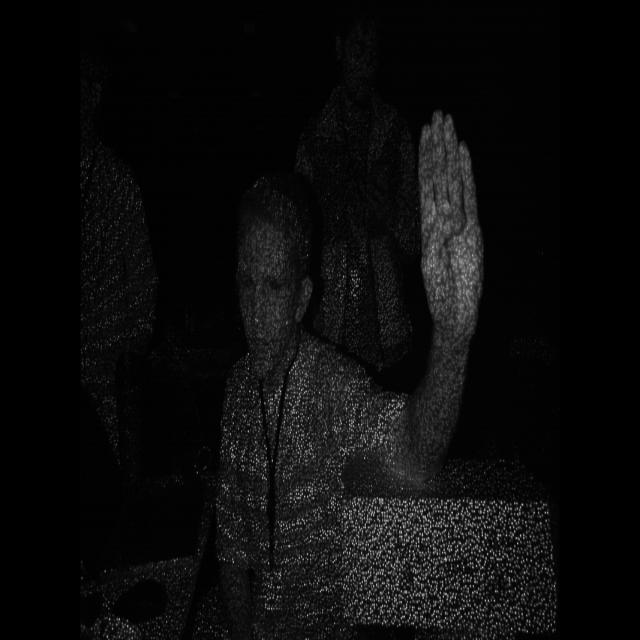B: (405, 104, 495, 344)
